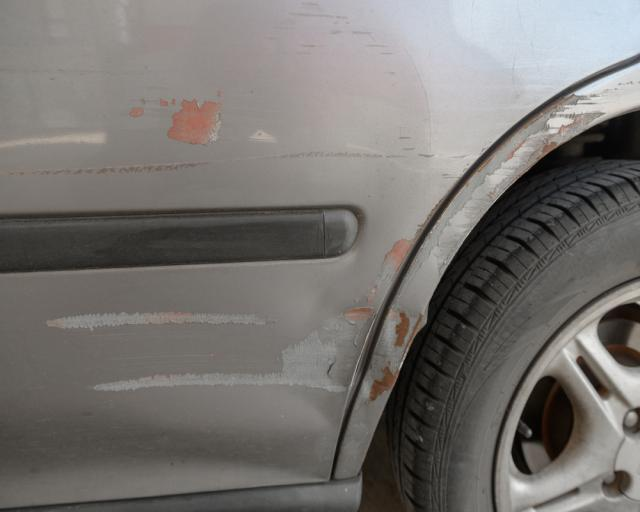scratch: (354, 74, 640, 407), (39, 235, 414, 396), (0, 89, 474, 182), (285, 0, 408, 82)
